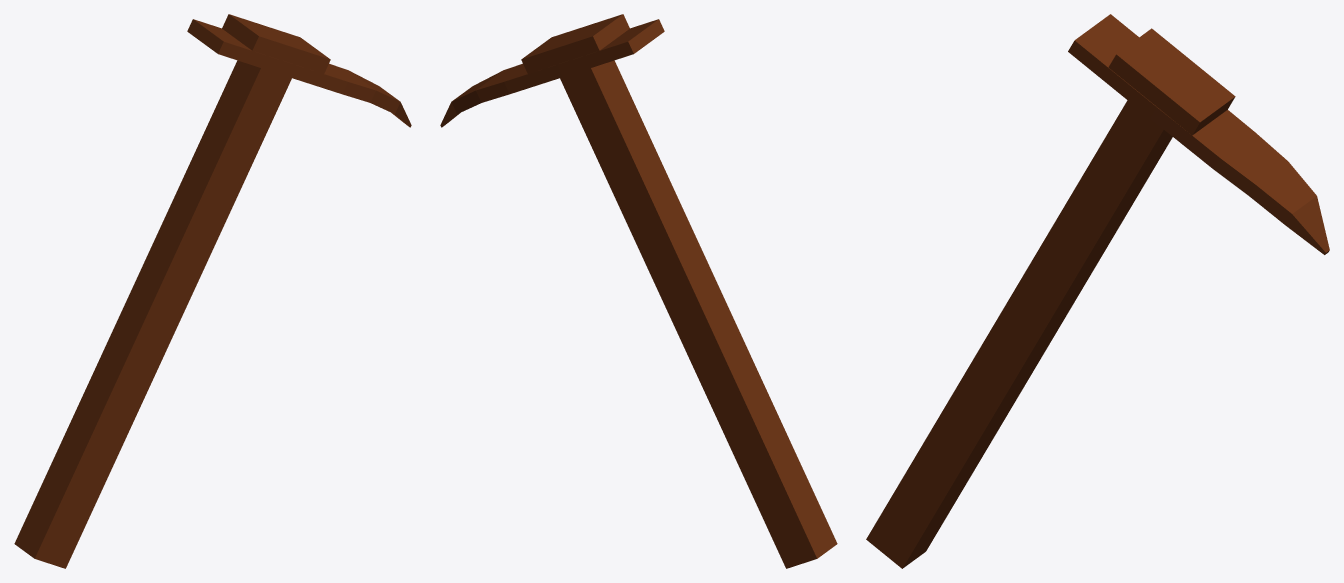
File: hoe.fbx
The picture shows the model from 3 angles, left to right: view 1: azimuth 30°, elevation 25°; view 2: azimuth 150°, elevation 25°; view 3: azimuth 330°, elevation 25°; orthographic projection. The views are drawn at different scales.
Parts seen in each view (by area): view 1: 立方体.049; view 2: 立方体.049; view 3: 立方体.049.
Boxes of the visible parts, x1,y1,x2,y2 form: 立方体.049: [14, 14, 411, 568]; 立方体.049: [440, 14, 837, 568]; 立方体.049: [866, 14, 1329, 568].
Size of the model in its own units: 38.87 by 281 by 344.
